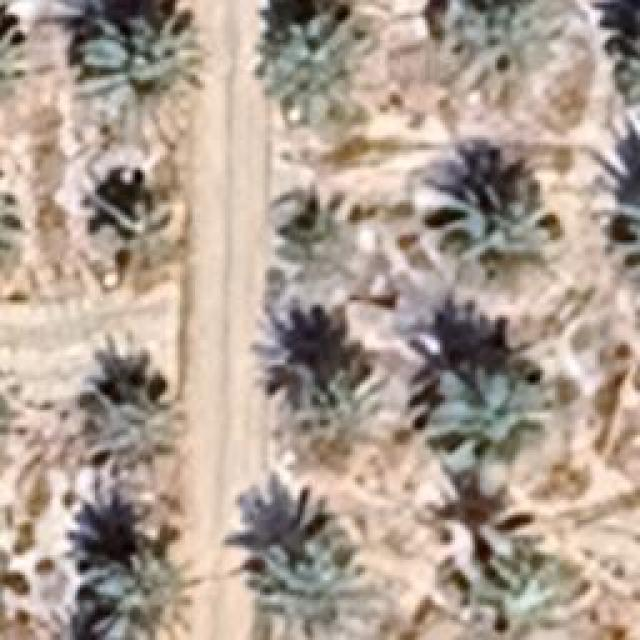PalmTree: (72, 10, 206, 150), (262, 182, 360, 328), (446, 0, 576, 108), (452, 162, 566, 282), (434, 336, 548, 456), (265, 342, 383, 456), (260, 11, 382, 119), (448, 529, 566, 639), (248, 526, 370, 626), (85, 550, 200, 638), (88, 372, 184, 470), (90, 195, 180, 290), (593, 125, 640, 290), (598, 0, 640, 100), (0, 11, 30, 114), (0, 190, 25, 288)
